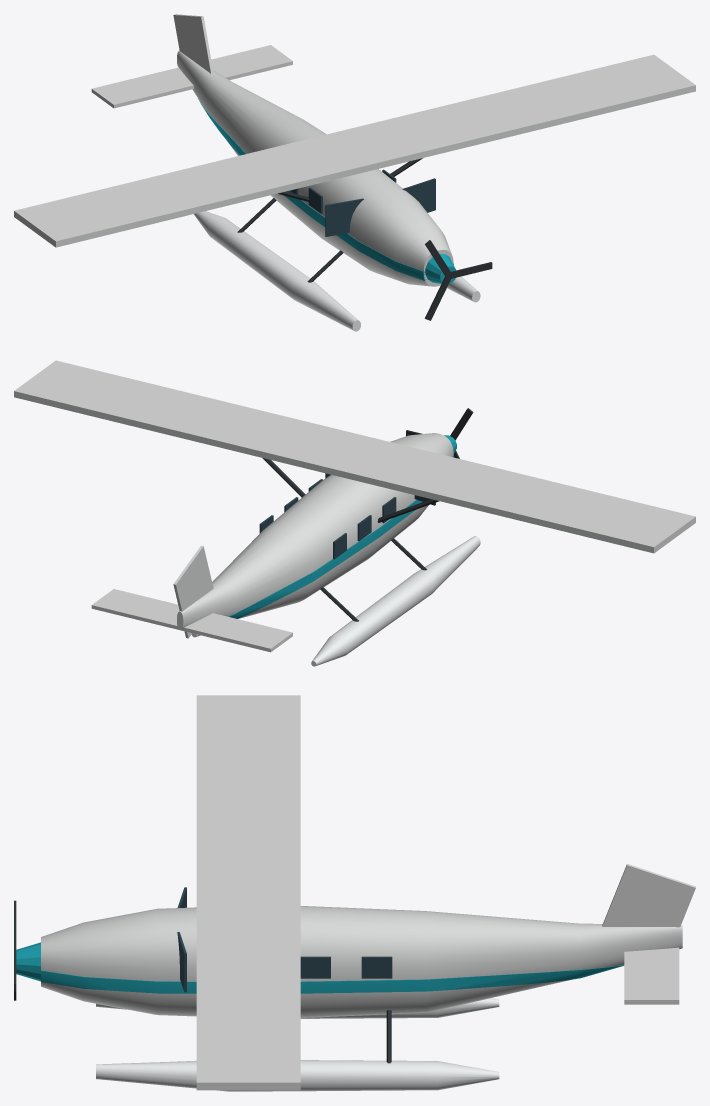
The model's file is seaplane.glb.
3 views of the same model, one above another, from view 1: azimuth 30°, elevation 25°; view 2: azimuth 150°, elevation 25°; view 3: azimuth 270°, elevation 25° (orthographic). The views are drawn at different scales.
Parts seen in each view (by area): view 1: white_2, white_0, float_13, white_4, stripe_1, white_3, glass_9, glass_17, stripe_5; view 2: white_2, white_0, float_13, white_4, stripe_1, white_3; view 3: white_2, white_0, float_21, stripe_1, white_3, white_4, float_13, stripe_5, glass_18, glass_19.
Boxes of the visible parts, left/top/right/bottom form: white_2: left=14, top=54, right=695, bottom=247; white_0: left=177, top=50, right=453, bottom=286; float_13: left=194, top=211, right=360, bottom=331; white_4: left=91, top=45, right=292, bottom=108; stripe_1: left=198, top=99, right=453, bottom=280; white_3: left=173, top=14, right=213, bottom=73; glass_9: left=325, top=198, right=363, bottom=236; glass_17: left=402, top=178, right=435, bottom=212; stripe_5: left=425, top=254, right=456, bottom=283; white_2: left=14, top=360, right=695, bottom=553; white_0: left=177, top=433, right=453, bottom=629; float_13: left=311, top=536, right=480, bottom=666; white_4: left=91, top=589, right=292, bottom=652; stripe_1: left=228, top=455, right=453, bottom=618; white_3: left=173, top=545, right=213, bottom=638; white_2: left=196, top=695, right=300, bottom=1090; white_0: left=41, top=906, right=682, bottom=1017; float_21: left=96, top=1060, right=499, bottom=1091; stripe_1: left=41, top=965, right=624, bottom=993; white_3: left=602, top=864, right=695, bottom=927; white_4: left=624, top=947, right=679, bottom=1004; float_13: left=96, top=998, right=499, bottom=1018; stripe_5: left=16, top=942, right=40, bottom=981; glass_18: left=361, top=956, right=392, bottom=978; glass_19: left=300, top=956, right=330, bottom=978.
Bounding box in the file's own units: 15 × 3.41 × 11.16.
